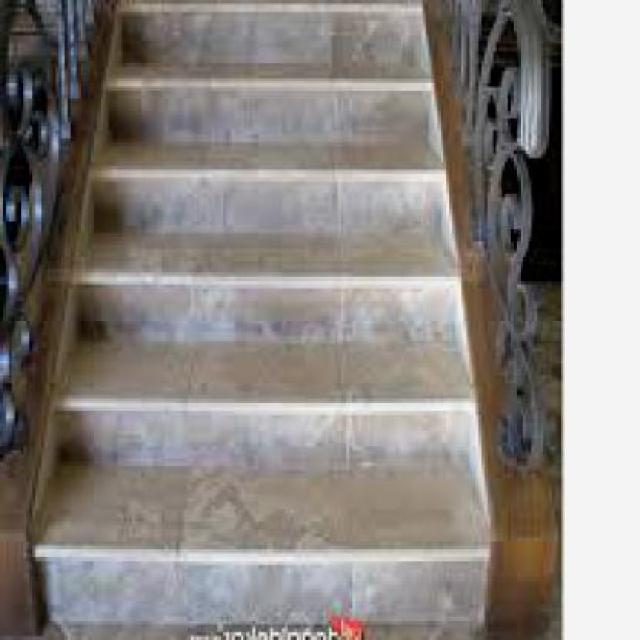stair: (17, 0, 540, 612)
